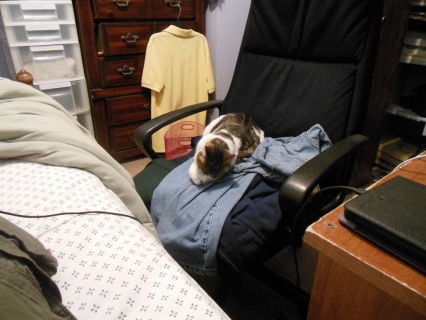Cat: (186, 109, 267, 188)
